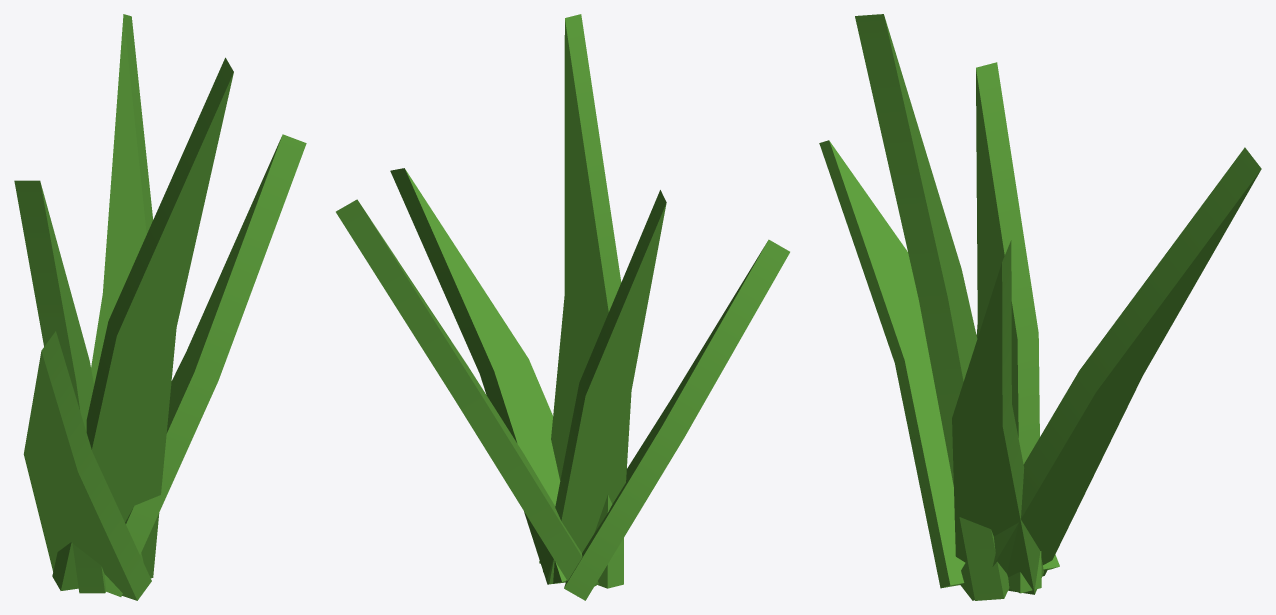
File: prop_grass_0.glb
3 views of the same model, side by side, from view 1: azimuth 30°, elevation 25°; view 2: azimuth 150°, elevation 25°; view 3: azimuth 270°, elevation 25° (orthographic). The views are drawn at different scales.
Parts seen in each view (by area): view 1: Blade0, Blade4, Blade1, Blade2, Blade3; view 2: Blade0, Blade3, Blade1, Blade2, Blade4; view 3: Blade2, Blade0, Blade4, Blade1, Blade3.
Part boxes in pixels (<box>): Blade0: <box>52,57,233,590</box>; Blade4: <box>23,331,151,600</box>; Blade1: <box>104,134,306,596</box>; Blade2: <box>91,14,152,561</box>; Blade3: <box>14,180,106,593</box>; Blade0: <box>539,14,623,588</box>; Blade3: <box>543,190,666,584</box>; Blade1: <box>390,168,566,584</box>; Blade2: <box>336,199,598,586</box>; Blade4: <box>564,239,789,600</box>; Blade2: <box>960,147,1261,600</box>; Blade0: <box>855,14,1009,600</box>; Blade4: <box>819,140,1059,588</box>; Blade1: <box>952,240,1043,594</box>; Blade3: <box>976,62,1041,593</box>.
Size of the model in its own units: 0.4453 by 0.6699 by 0.4416.
